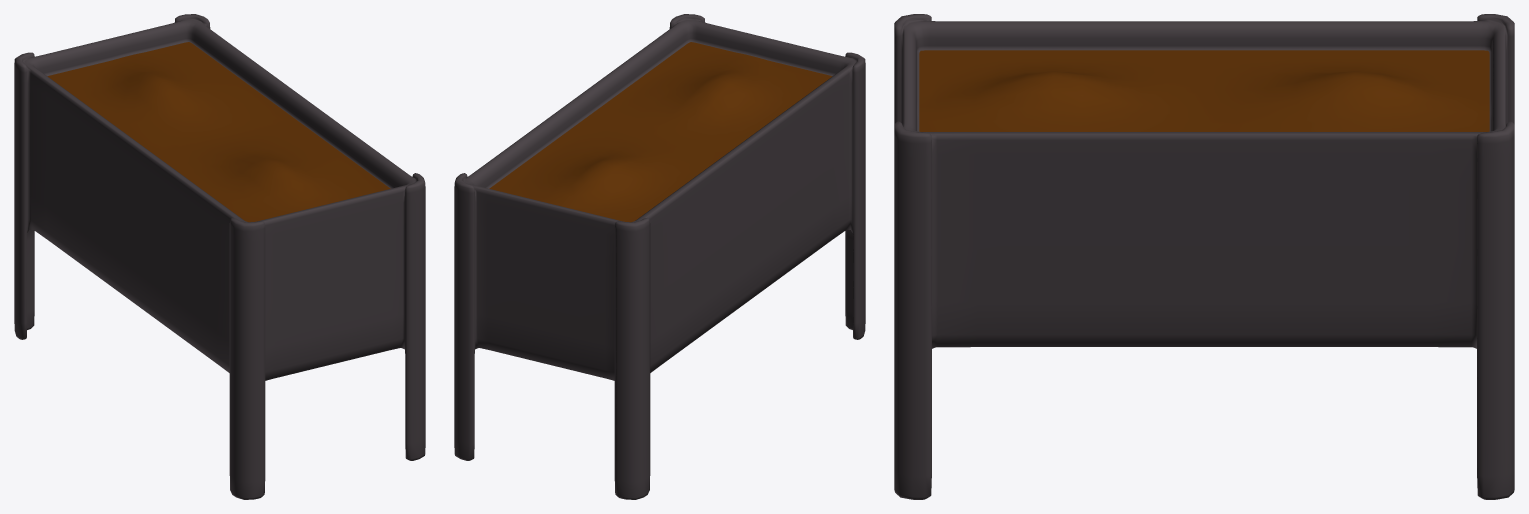
Rendered from planterbox filled.fbx.
The picture shows the model from 3 angles, left to right: view 1: azimuth 30°, elevation 25°; view 2: azimuth 150°, elevation 25°; view 3: azimuth 270°, elevation 25°; orthographic projection. The views are drawn at different scales.
Visible parts, largest first — view 1: planterbox filled; view 2: planterbox filled; view 3: planterbox filled.
Boxes of the visible parts, x1=… form: planterbox filled: x1=14, y1=14, x2=425, y2=499; planterbox filled: x1=454, y1=14, x2=865, y2=499; planterbox filled: x1=894, y1=14, x2=1514, y2=499.
Bounding box in the file's own units: 46.87 × 65.32 × 101.
